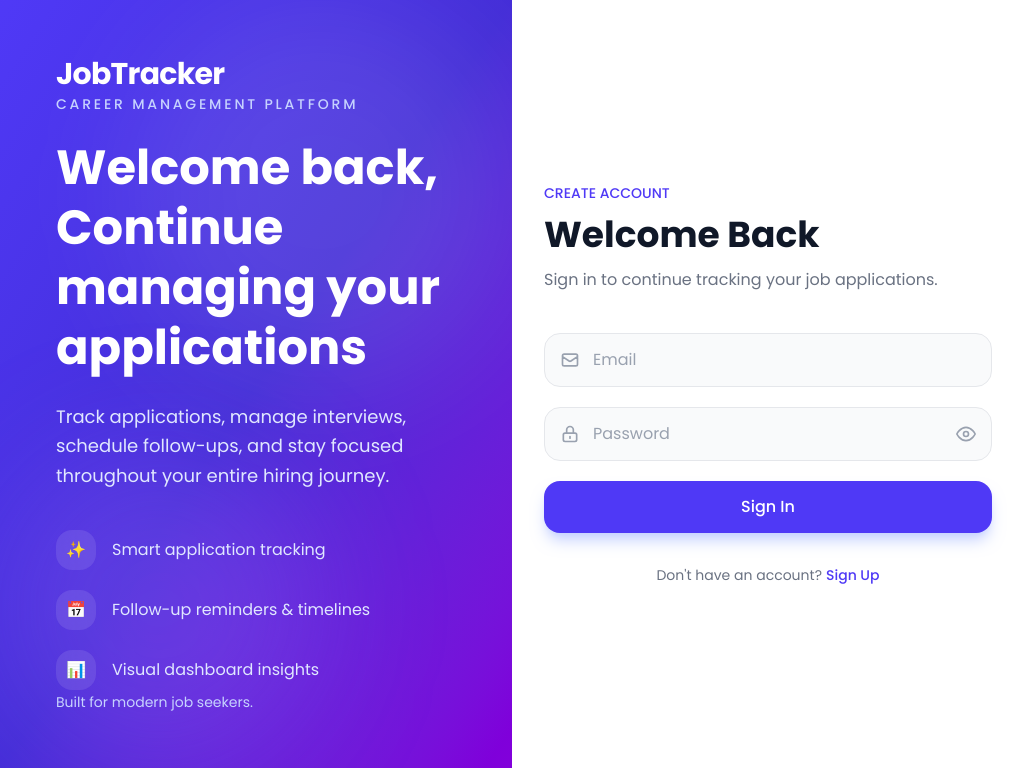
Test case: Login Page › shows loading state during login submission
Step 1. Type "herika@test.com" into the field with placeholder "Email" → (768, 360), box [544, 333, 992, 387]
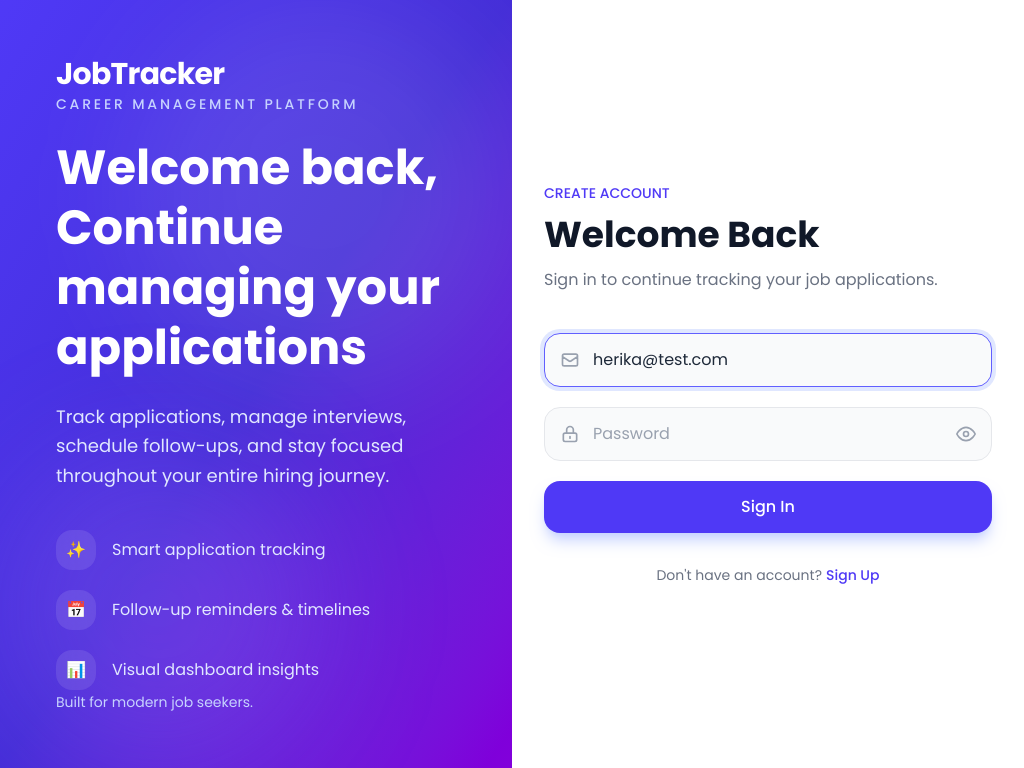
Step 2. Type "123456" into the password field with placeholder "Password" → (768, 434), box [544, 407, 992, 461]
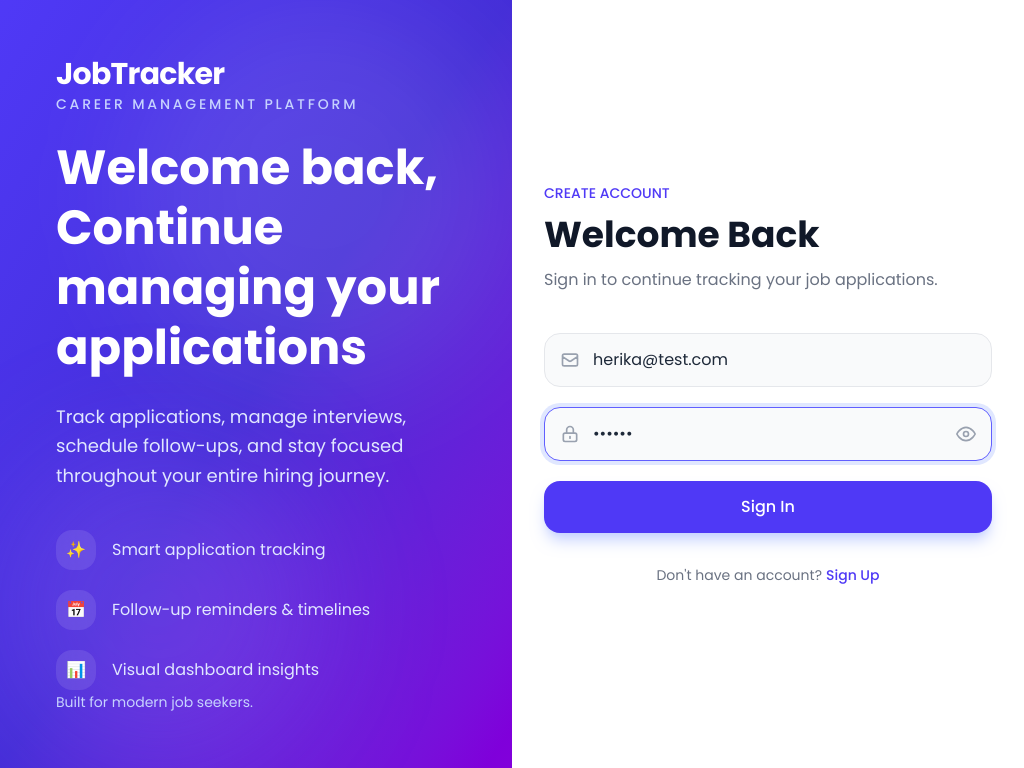
Step 3. Click the button "Sign In" → (768, 507), box [544, 481, 992, 533]
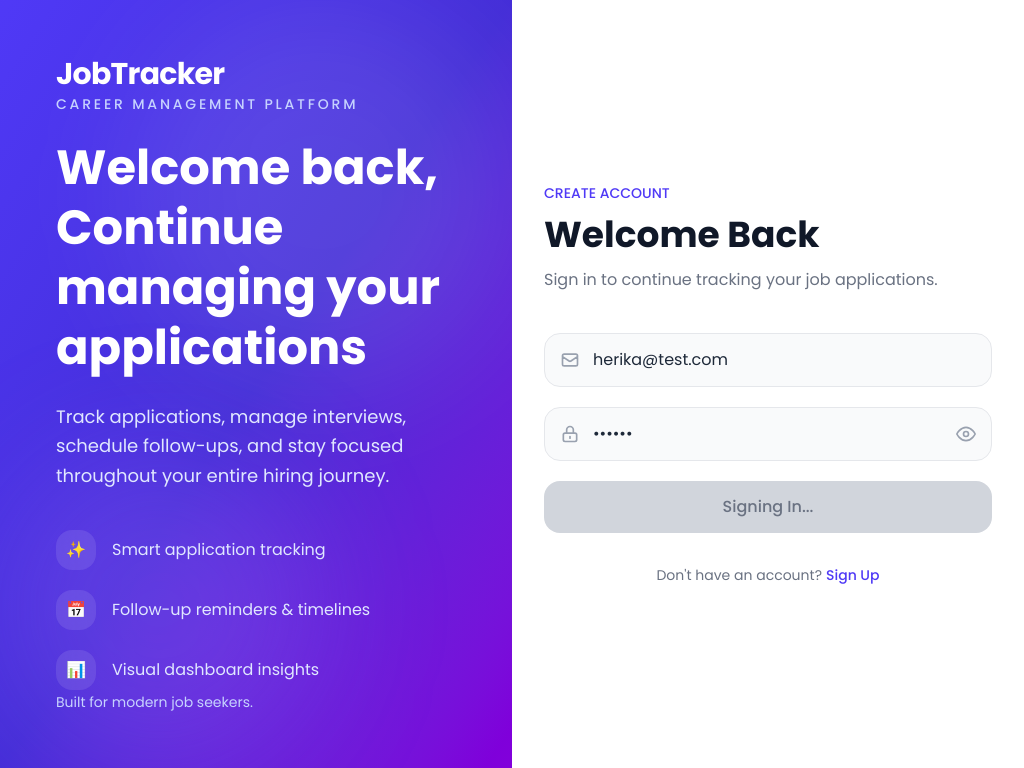
expect the button "Signing In..." is disabled: met, box [544, 481, 992, 533]
